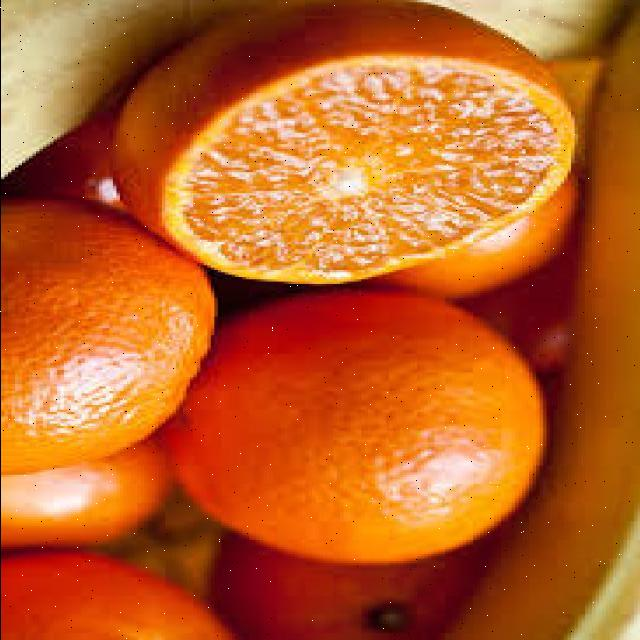Orange: (111, 1, 578, 286), (168, 289, 548, 565), (2, 196, 217, 476)
